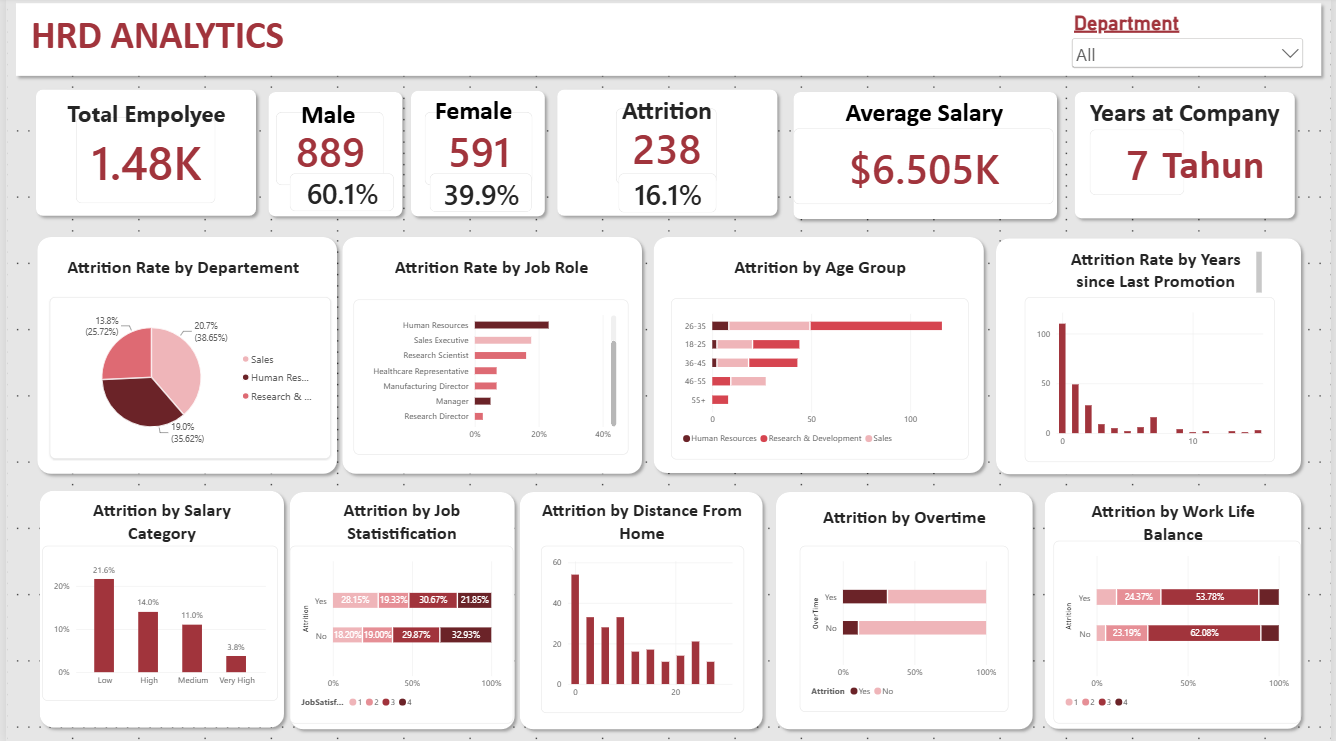

Layout of this report page (visuals, bound fields, positions):
{"tool":"powerbi","page":{"name":"Overview","canvas":[1920,1080],"ordinal":0},"visuals":[{"type":"shape","box":[1426,340,460,360],"z":0},{"type":"shape","box":[477.4,337.9,452.4,361.2],"z":1000},{"type":"shape","box":[5.4,0,1909.1,123.2],"z":2000},{"type":"textbox","box":[36.2,19.9,402.1,83.3],"z":3000},{"type":"textbox","box":[5.4,201.1,288,150.3],"z":4000},{"type":"shape","box":[35.8,337.9,452.4,361.2],"z":5000},{"type":"shape","box":[372,128,212,198],"z":6000},{"type":"shape","box":[790,125,336.9,201.1],"z":7000},{"type":"shape","box":[1132,128,400,202],"z":8000},{"type":"shape","box":[1540,128,336.9,201.1],"z":9000},{"type":"shape","box":[35,125,336.9,201.1],"z":10000},{"type":"slicer","fields":{"Values":["HR_Analytics.Department"]},"box":[1540,20,345,86.7],"z":11000},{"type":"shape","box":[930,338.3,496.7,360],"z":12000},{"type":"shape","box":[39.3,706.3,371.9,361.2],"z":13000},{"type":"shape","box":[402,708,344,362],"z":14000},{"type":"cardVisual","fields":{"Data":["All Measures.TotalEmp"]},"box":[102,174,202.5,125],"z":15000},{"type":"textbox","box":[83.8,146.2,240,55],"z":16000},{"type":"cardVisual","fields":{"Data":["All Measures.Male"]},"box":[392,166,156.7,106.7],"z":17000},{"type":"cardVisual","fields":{"Data":["All Measures.Attiration"]},"box":[884,162,146,110],"z":18000},{"type":"textbox","box":[790,142,336,54],"z":19000},{"type":"textbox","box":[428,146,91.4,50],"z":20000},{"type":"cardVisual","fields":{"Data":["All Measures.% Male"]},"box":[411.2,255.7,152,55.4],"z":21000},{"type":"shape","box":[578,126,212,200],"z":22000},{"type":"cardVisual","fields":{"Data":["All Measures.Female"]},"box":[606,166,156.7,106.7],"z":23000},{"type":"cardVisual","fields":{"Data":["All Measures.% Female"]},"box":[614,256,148,56],"z":24000},{"type":"textbox","box":[622,142,124,50],"z":25000},{"type":"cardVisual","fields":{"Data":["All Measures.% Attrition"]},"box":[887.5,255,142.5,57.5],"z":26000},{"type":"cardVisual","fields":{"Data":["All Measures.Average Salary"]},"box":[1142,190,377.5,110],"z":27000},{"type":"cardVisual","fields":{"Data":["All Measures.Average Tenure"]},"box":[1570,192,137.5,95],"z":28000},{"type":"textbox","box":[1676,206,172.5,75],"z":29000},{"type":"textbox","box":[1214,144,234,62],"z":30000},{"type":"textbox","box":[1570,144,300,46],"z":31000},{"type":"pieChart","fields":{"Category":["HR_Analytics.Department"],"Y":["All Measures.% Attrition"]},"box":[62.6,434.5,407.1,234.3],"z":32000},{"type":"barChart","fields":{"Category":["HR_Analytics.AgeGroup"],"Series":["HR_Analytics.Department"],"Y":["All Measures.Attiration"]},"box":[963.3,436.7,431.2,233.8],"z":33000},{"type":"barChart","fields":{"Category":["HR_Analytics.JobRole"],"Y":["All Measures.% Attrition"]},"box":[504.4,438.9,398.3,225],"z":34000},{"type":"clusteredColumnChart","fields":{"Category":["HR_Analytics.YearsAtCompany (bins)"],"Y":["All Measures.TotalEmp"]},"box":[1475.5,434.5,362.7,239.1],"z":35000},{"type":"clusteredColumnChart","fields":{"Category":["HR_Analytics.SalaryCategory"],"Y":["All Measures.% Attrition"]},"box":[52,796,341.2,225],"z":36000},{"type":"shape","box":[736,708,370,362],"z":37000},{"type":"clusteredColumnChart","fields":{"Category":["HR_Analytics.DistanceFromHome (bins)"],"Y":["All Measures.Attiration"]},"box":[775.6,795.6,294.4,242.2],"z":38000},{"type":"shape","box":[1106,708,390,362],"z":39000},{"type":"shape","box":[1496,708,389.8,361.2],"z":40000},{"type":"clusteredColumnChart","fields":{"Category":["HR_Analytics.Department"],"Series":["HR_Analytics.JobSatisfaction (bins)"],"Y":["All Measures.Attiration"]},"box":[424.4,795.6,300,240],"z":41000},{"type":"hundredPercentStackedBarChart","fields":{"Category":["HR_Analytics.OverTime"],"Series":["HR_Analytics.Attrition"],"Y":["All Measures.TotalEmp"]},"box":[1150,795.6,302.2,241.1],"z":42000},{"type":"clusteredColumnChart","fields":{"Category":["HR_Analytics.Department"],"Series":["HR_Analytics.WorkLifeBalance (bins)"],"Y":["All Measures.Attiration"]},"box":[1538,810,300,226],"z":43000},{"type":"textbox","box":[88.9,374.4,380,37.8],"z":44000},{"type":"textbox","box":[563.3,374.4,300,44.4],"z":45000},{"type":"textbox","box":[990,374.4,377.8,45.6],"z":46000},{"type":"textbox","box":[1520,365.6,300,62.2],"z":47000},{"type":"textbox","box":[75.6,726.7,300,68.9],"z":48000},{"type":"textbox","box":[424.4,726.7,300,68.9],"z":49000},{"type":"textbox","box":[1152.2,736.7,300,50],"z":50000},{"type":"textbox","box":[771.1,726.7,300,68.9],"z":51000},{"type":"textbox","box":[1541.1,727.8,300,68.9],"z":52000}]}

Visuals, with their boxes in screenshot pixels (x1, y1, x2, y2), scaled from the page's 1920x1080 canvas onto the 1336x741 screenshot:
shape: [992,233,1312,480]
shape: [332,232,647,480]
shape: [4,0,1332,85]
textbox: [25,14,305,71]
textbox: [4,138,204,241]
shape: [25,232,340,480]
shape: [259,88,406,224]
shape: [550,86,784,224]
shape: [788,88,1066,226]
shape: [1072,88,1306,226]
shape: [24,86,259,224]
slicer - HR_Analytics.Department: [1072,14,1312,73]
shape: [647,232,993,479]
shape: [27,485,286,732]
shape: [280,486,519,734]
cardVisual - All Measures.TotalEmp: [71,119,212,205]
textbox: [58,100,225,138]
cardVisual - All Measures.Male: [273,114,382,187]
cardVisual - All Measures.Attiration: [615,111,717,187]
textbox: [550,97,784,134]
textbox: [298,100,361,134]
cardVisual - All Measures.% Male: [286,175,392,213]
shape: [402,86,550,224]
cardVisual - All Measures.Female: [422,114,531,187]
cardVisual - All Measures.% Female: [427,176,530,214]
textbox: [433,97,519,132]
cardVisual - All Measures.% Attrition: [618,175,717,214]
cardVisual - All Measures.Average Salary: [795,130,1057,206]
cardVisual - All Measures.Average Tenure: [1092,132,1188,197]
textbox: [1166,141,1286,193]
textbox: [845,99,1008,141]
textbox: [1092,99,1301,130]
pieChart - HR_Analytics.Department x All Measures.% Attrition: [44,298,327,459]
barChart - HR_Analytics.AgeGroup x HR_Analytics.Department: [670,300,970,460]
barChart - HR_Analytics.JobRole x All Measures.% Attrition: [351,301,628,456]
clusteredColumnChart - HR_Analytics.YearsAtCompany (bins) x All Measures.TotalEmp: [1027,298,1279,462]
clusteredColumnChart - HR_Analytics.SalaryCategory x All Measures.% Attrition: [36,546,274,701]
shape: [512,486,770,734]
clusteredColumnChart - HR_Analytics.DistanceFromHome (bins) x All Measures.Attiration: [540,546,745,712]
shape: [770,486,1041,734]
shape: [1041,486,1312,734]
clusteredColumnChart - HR_Analytics.Department x HR_Analytics.JobSatisfaction (bins): [295,546,504,711]
hundredPercentStackedBarChart - HR_Analytics.OverTime x HR_Analytics.Attrition: [800,546,1010,711]
clusteredColumnChart - HR_Analytics.Department x HR_Analytics.WorkLifeBalance (bins): [1070,556,1279,711]
textbox: [62,257,326,283]
textbox: [392,257,601,287]
textbox: [689,257,952,288]
textbox: [1058,251,1266,294]
textbox: [53,499,261,546]
textbox: [295,499,504,546]
textbox: [802,505,1010,540]
textbox: [537,499,745,546]
textbox: [1072,499,1281,547]
